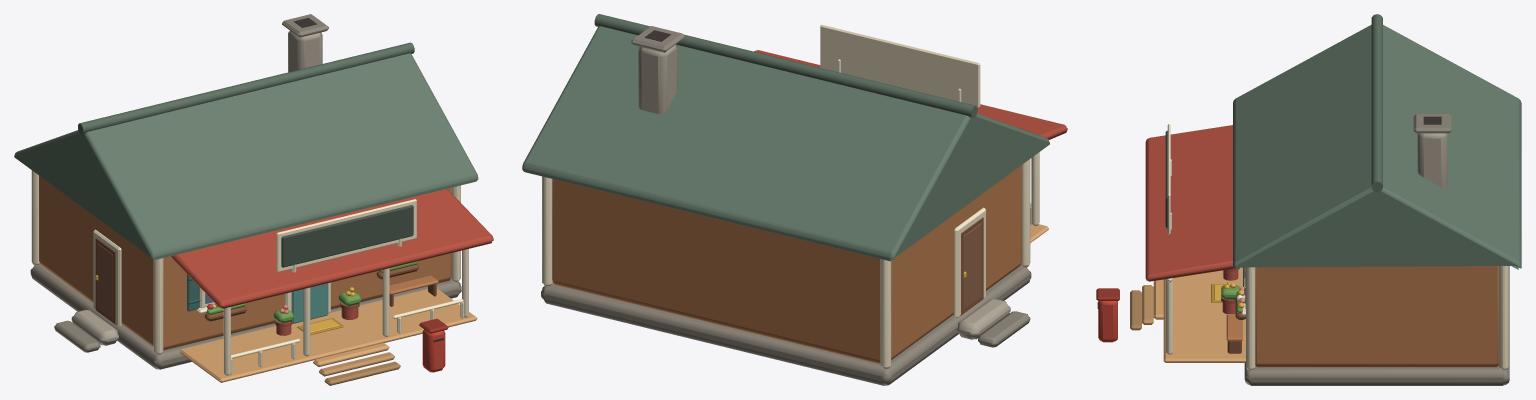
Rendered from post_office.glb.
3 renders of one model, left to right at view 1: azimuth 30°, elevation 25°; view 2: azimuth 150°, elevation 25°; view 3: azimuth 270°, elevation 25°, orthographic. The views are drawn at different scales.
Visible parts, largest first — view 1: body, door; view 2: body; view 3: body.
Part boxes in pixels (x1,y1,x2,y2): body: (14,14,493,385); door: (291,283,328,323); body: (522,14,1067,385); body: (1096,14,1521,385).
Size of the model in its own units: 10.71 by 6.59 by 10.75.
